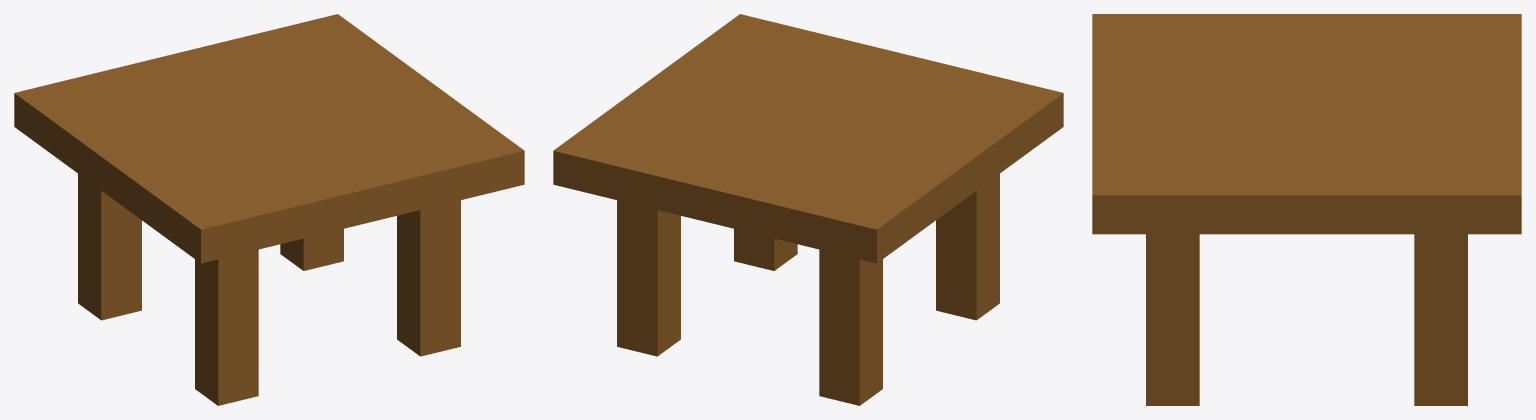
The model's file is table.glb.
3 renders of one model, left to right at view 1: azimuth 30°, elevation 25°; view 2: azimuth 150°, elevation 25°; view 3: azimuth 270°, elevation 25°, orthographic. The views are drawn at different scales.
Visible parts, largest first — view 1: Cube; view 2: Cube; view 3: Cube.
Boxes of the visible parts, box(x1,y1,x2,y2) form: Cube: box(14, 14, 524, 405); Cube: box(553, 14, 1063, 405); Cube: box(1092, 14, 1521, 405).
Size of the model in its own units: 2 by 1.2 by 2.
